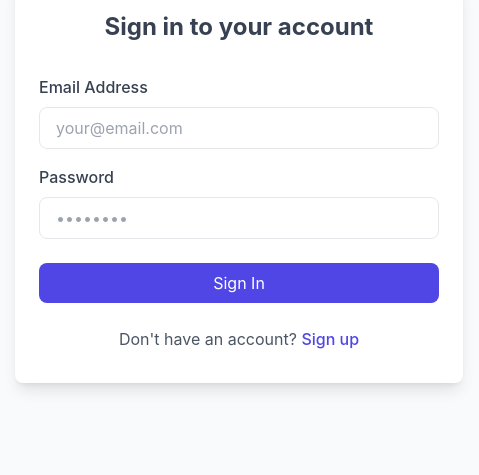
Login Component › displays error message on failed login
# Enter data
In the field labelled "Email Address": (239, 128) [39,107,439,149], type "test@example.com"
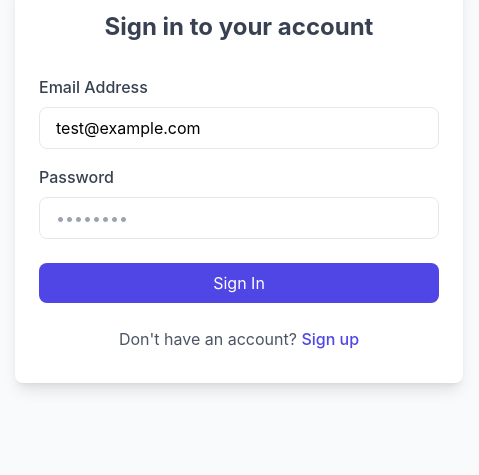
In the password field labelled "Password": (239, 218) [39,197,439,239], type "wrong-password"
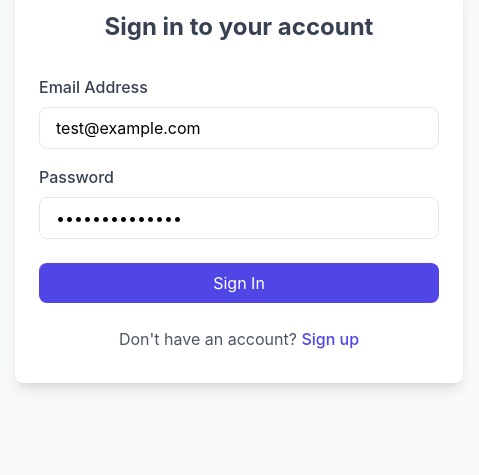
# Submit form
Click the button "Sign In": (239, 283) [39,263,439,303]
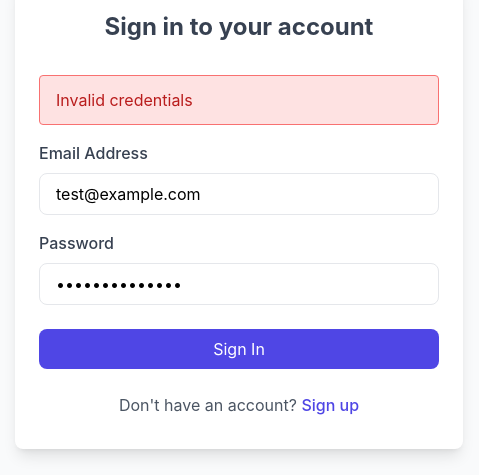
Now the text "Invalid credentials" is shown, box [39,75,439,125]
